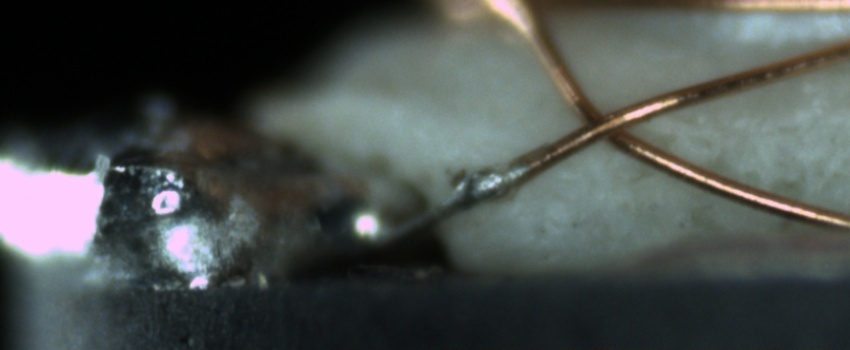CL: (564, 91, 656, 155)
TB: (453, 166, 512, 202)
TS: (372, 162, 534, 247)
TTCW: (356, 135, 571, 251)
